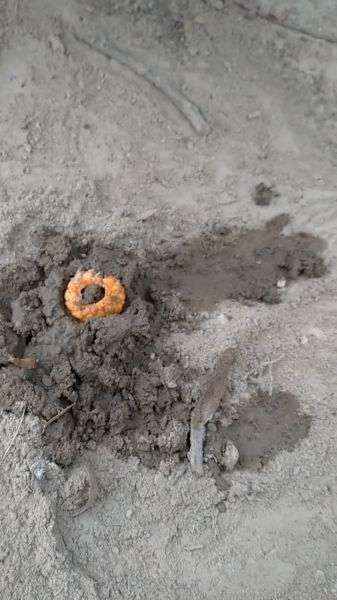eggs: (57, 261, 134, 329)
